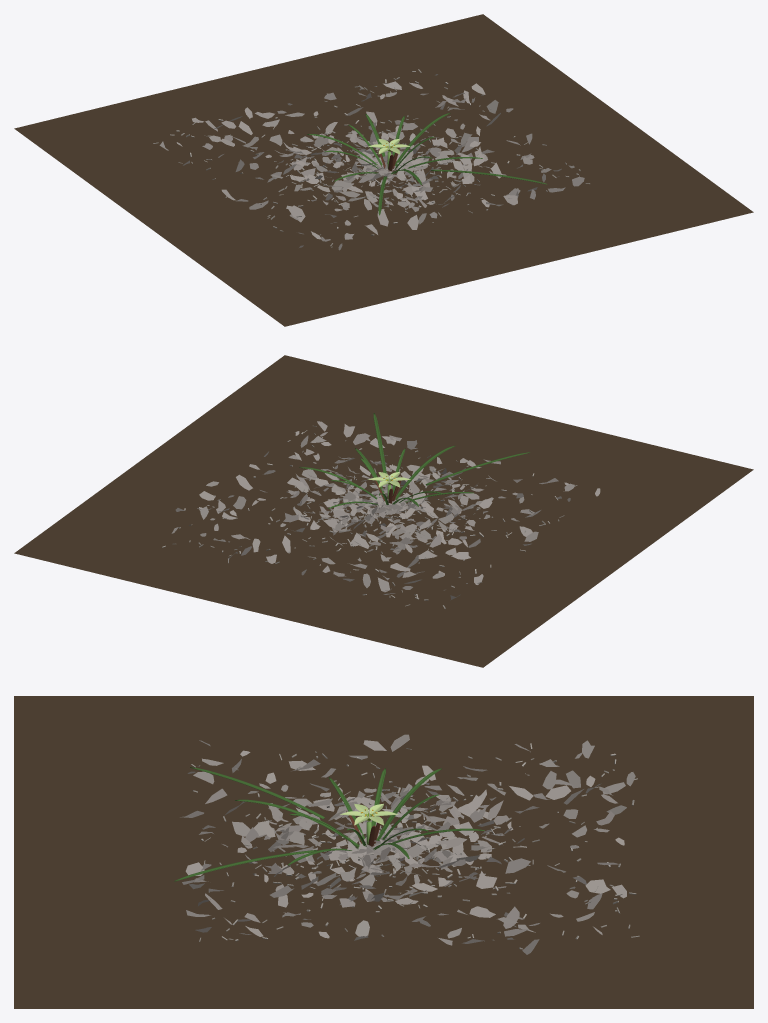
3 renders of one model, top to bottom at view 1: azimuth 30°, elevation 25°; view 2: azimuth 150°, elevation 25°; view 3: azimuth 270°, elevation 25°, orthographic. The views are drawn at different scales.
Visible parts, largest first — view 1: Ground_Base.001, Litter_Leaves.001, Mulch_Chips.001; view 2: Ground_Base.001, Litter_Leaves.001, Mulch_Chips.001; view 3: Ground_Base.001, Litter_Leaves.001, Mulch_Chips.001, Tepals.001.
Boxes of the visible parts, <box> form: Ground_Base.001: <box>14,14,753,326</box>; Litter_Leaves.001: <box>159,74,584,250</box>; Mulch_Chips.001: <box>153,69,589,247</box>; Ground_Base.001: <box>14,355,753,667</box>; Litter_Leaves.001: <box>171,421,600,600</box>; Mulch_Chips.001: <box>162,425,577,608</box>; Ground_Base.001: <box>14,696,753,1008</box>; Litter_Leaves.001: <box>180,734,635,954</box>; Mulch_Chips.001: <box>191,743,639,949</box>; Tepals.001: <box>340,803,398,825</box>.
Bounding box in the file's own units: 1 × 0.086 × 1.
